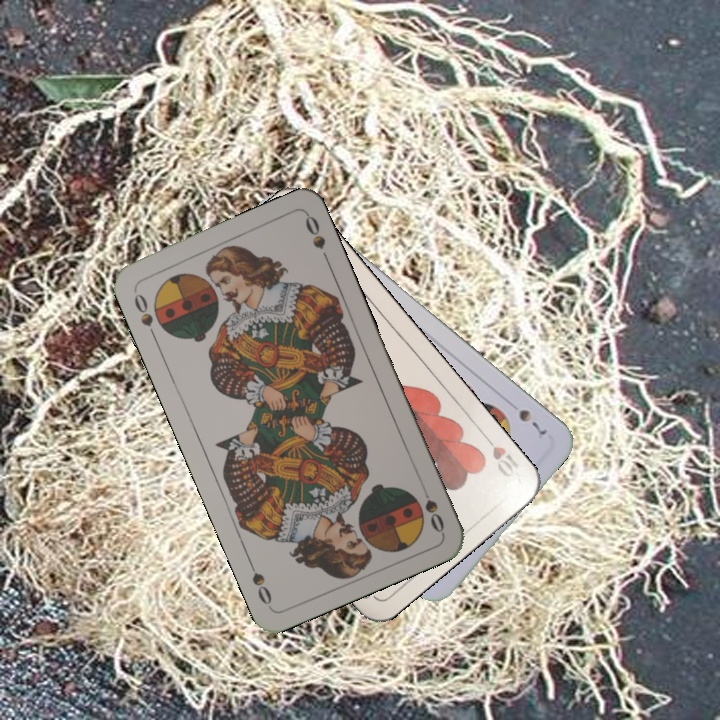H10: (479, 430, 522, 481)
S7: (514, 405, 549, 439)
SO: (416, 478, 447, 536), (129, 285, 159, 342)
